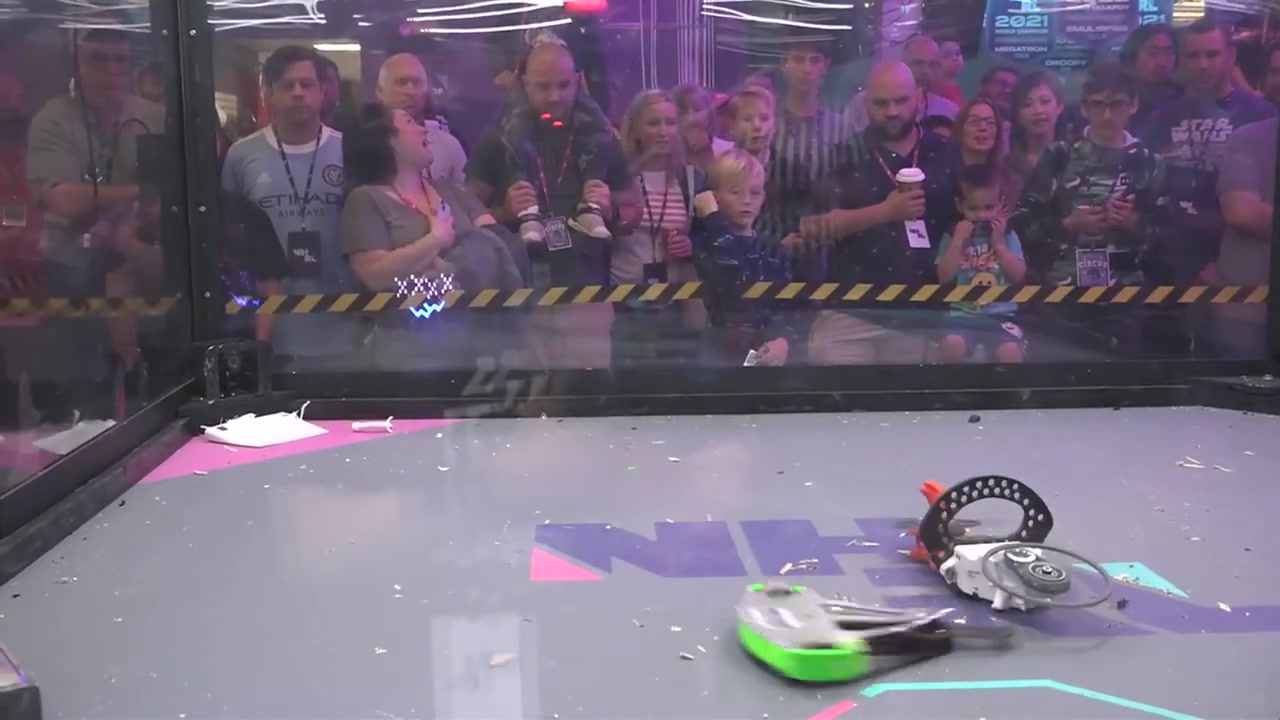combatbot: (730, 579, 955, 680), (899, 536, 1113, 613), (202, 410, 326, 448)
debris: (353, 413, 395, 432)
housebot: (0, 632, 42, 720)
